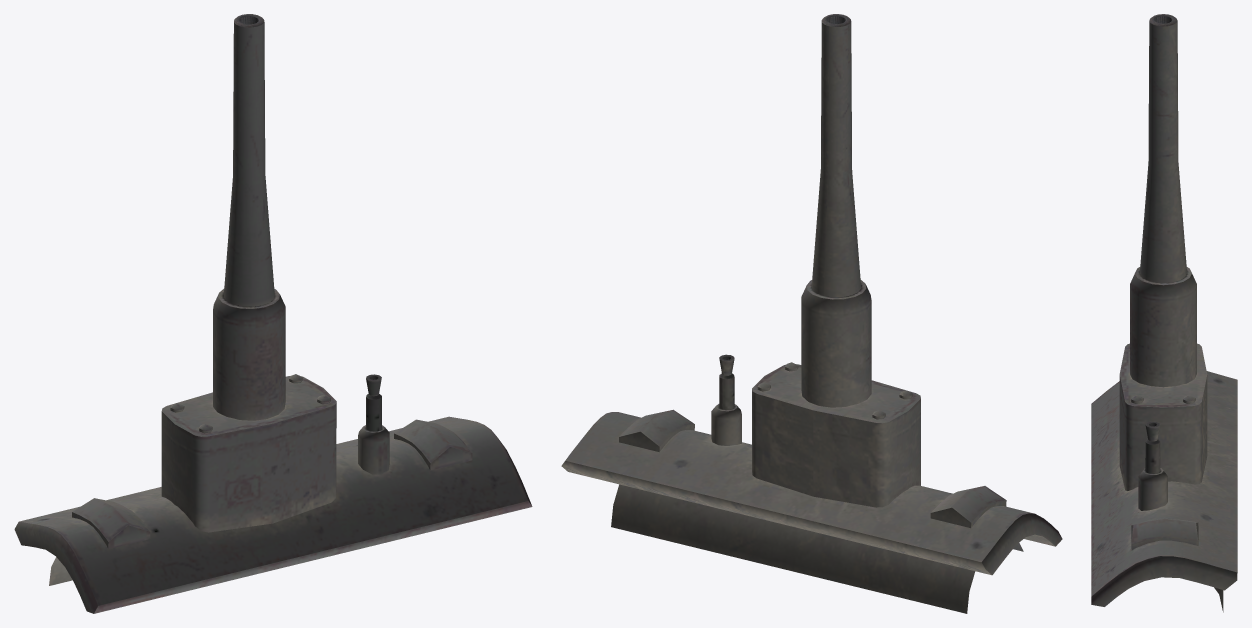
Rendered from Gun_06.glb.
3 views of the same model, side by side, from view 1: azimuth 30°, elevation 25°; view 2: azimuth 150°, elevation 25°; view 3: azimuth 270°, elevation 25° (orthographic). The views are drawn at different scales.
Visible parts, largest first — view 1: set_0_group_0; view 2: set_0_group_0; view 3: set_0_group_0.
Part boxes in pixels (x1,y1,x2,y2): set_0_group_0: [14, 14, 532, 613]; set_0_group_0: [561, 14, 1062, 613]; set_0_group_0: [1091, 14, 1237, 612].
Size of the model in its own units: 1.34 by 1.6 by 0.4194.
Materials: 1 (1 with a texture image).
